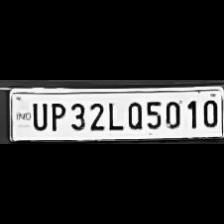0: (162, 97, 182, 129), (200, 96, 218, 128)
1: (182, 97, 198, 129)
2: (87, 98, 105, 132)
3: (66, 99, 86, 130)
5: (143, 97, 161, 130)
L: (104, 98, 122, 130)
P: (46, 99, 66, 131)
Q: (122, 98, 144, 130)
U: (28, 99, 48, 130)
